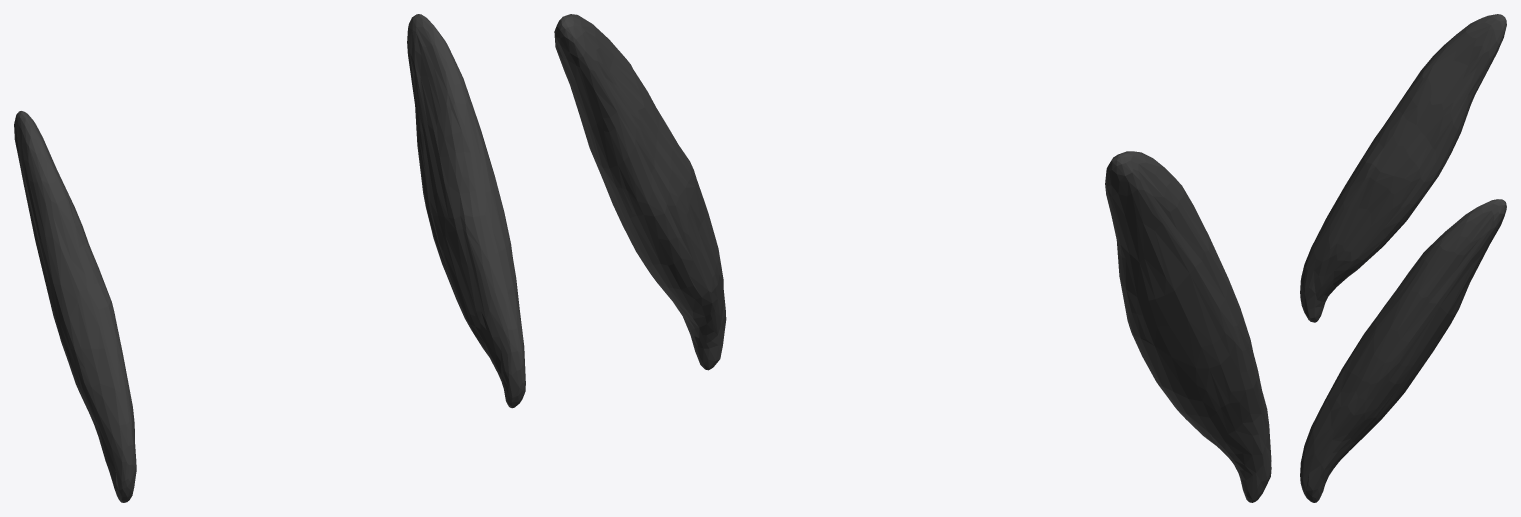
File: m_quadriceps_vastus_intermedius.glb
3 views of the same model, side by side, from view 1: azimuth 30°, elevation 25°; view 2: azimuth 150°, elevation 25°; view 3: azimuth 270°, elevation 25° (orthographic). The views are drawn at different scales.
Parts seen in each view (by area): view 1: m_quadriceps_vastus_intermedius; view 2: m_quadriceps_vastus_intermedius; view 3: m_quadriceps_vastus_intermedius.
Boxes of the visible parts, <box> form: m_quadriceps_vastus_intermedius: <box>14,14,525,502</box>; m_quadriceps_vastus_intermedius: <box>554,14,1271,502</box>; m_quadriceps_vastus_intermedius: <box>1300,14,1506,502</box>.
Bounding box in the file's own units: 0.00665 × 0.00461 × 0.00283.
Materials: 1 (1 with a texture image).
